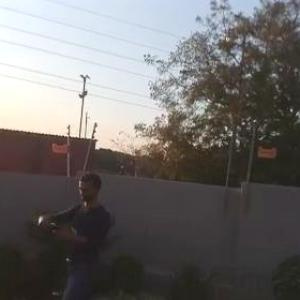follow: (28, 161, 114, 299)
